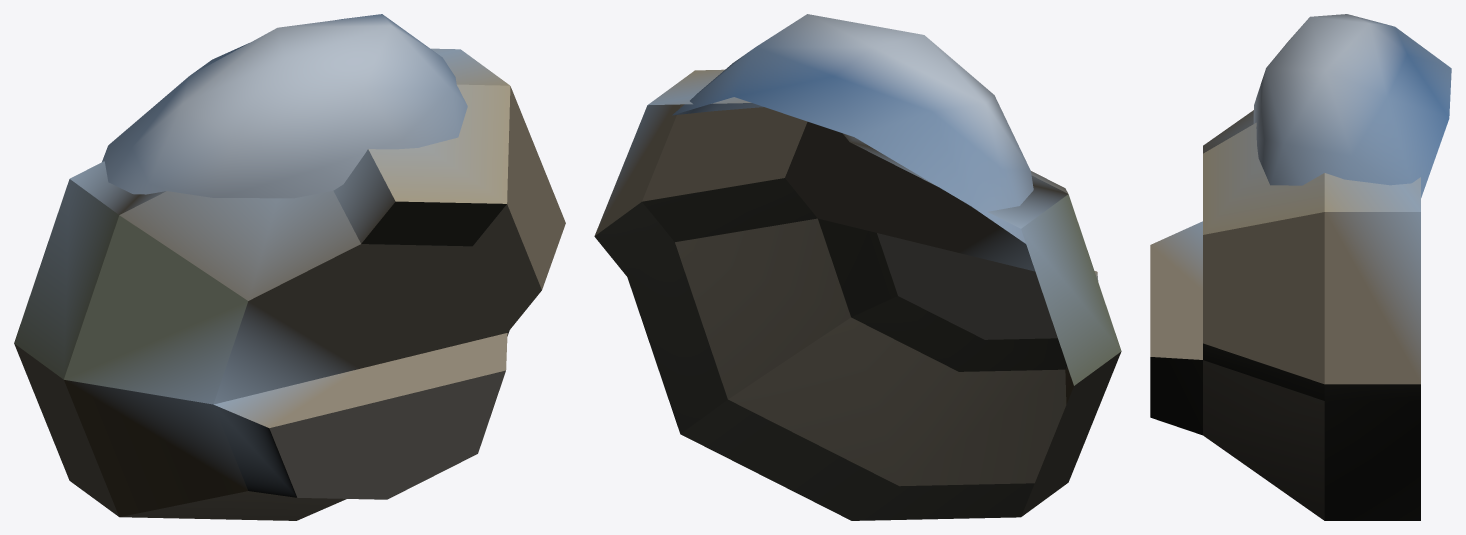
The model's file is Cliff_01.fbx.
3 views of the same model, side by side, from view 1: azimuth 30°, elevation 25°; view 2: azimuth 150°, elevation 25°; view 3: azimuth 270°, elevation 25° (orthographic). The views are drawn at different scales.
Parts seen in each view (by area): view 1: Cliff_01; view 2: Cliff_01; view 3: Cliff_01.
Part boxes in pixels (box(x1,y1,x2,y2)): Cliff_01: box(14, 14, 565, 520); Cliff_01: box(594, 14, 1121, 520); Cliff_01: box(1150, 14, 1451, 520).
Size of the model in its own units: 1782 by 1612 by 957.
